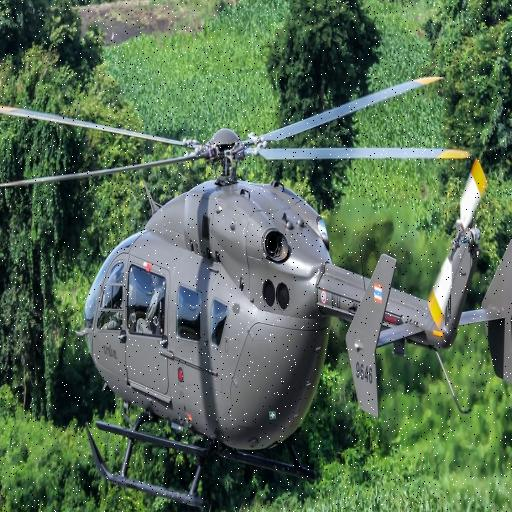helicopter: (12, 40, 512, 512)
